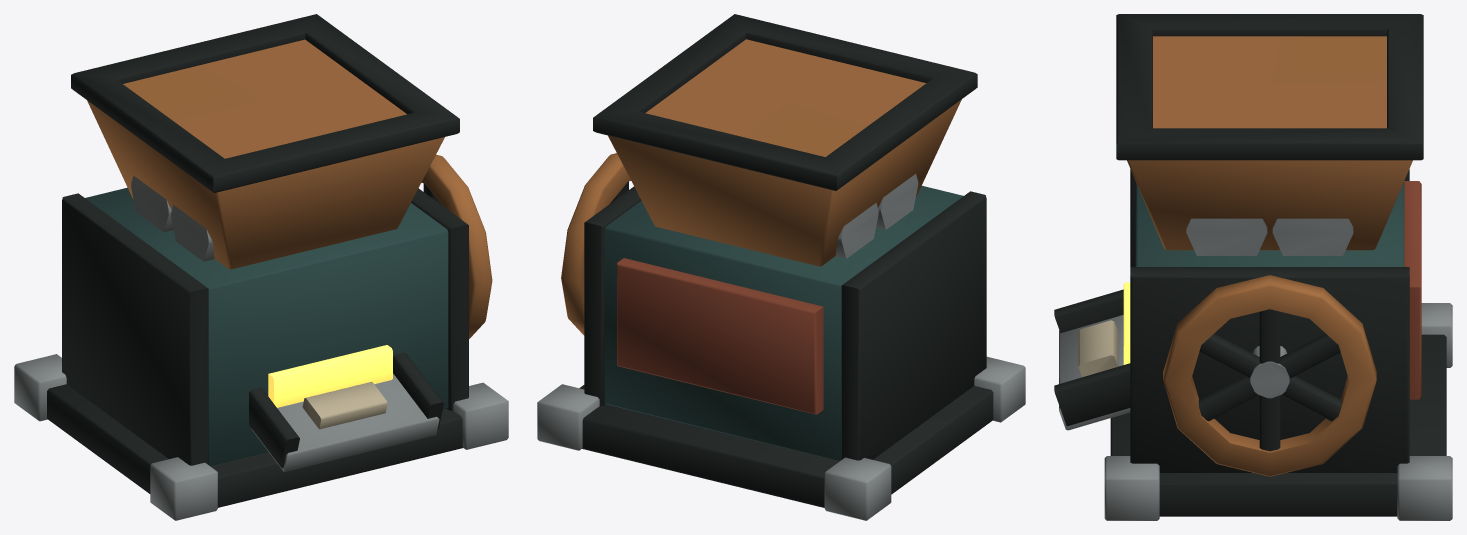
Rendered from station_scrapper.glb.
The picture shows the model from 3 angles, left to right: view 1: azimuth 30°, elevation 25°; view 2: azimuth 150°, elevation 25°; view 3: azimuth 270°, elevation 25°; orthographic projection. The views are drawn at different scales.
Visible parts, largest first — view 1: station_scrapper_mesh; view 2: station_scrapper_mesh; view 3: station_scrapper_mesh.
Boxes of the visible parts, bbox=[...] form: station_scrapper_mesh: bbox=[14, 14, 508, 520]; station_scrapper_mesh: bbox=[537, 14, 1025, 520]; station_scrapper_mesh: bbox=[1054, 14, 1452, 520].
Bounding box in the file's own units: 2.5 × 2.28 × 2.31.
